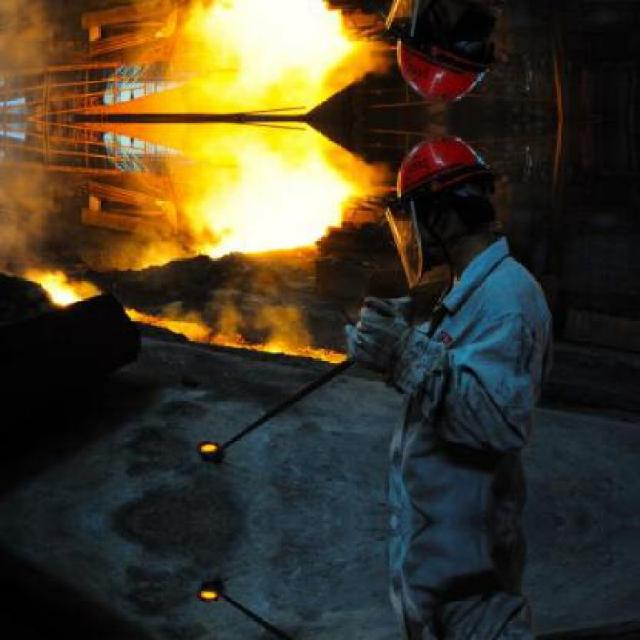helmet: (384, 126, 502, 256), (385, 0, 503, 109)
